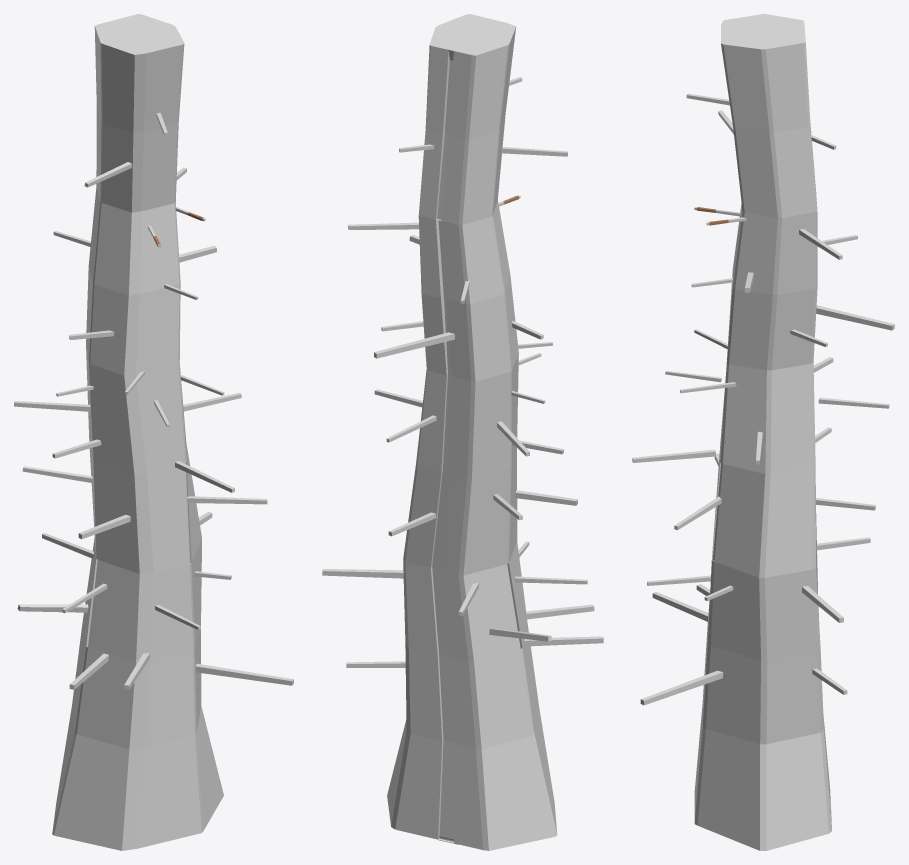
File: resource__surrounding__tree_trunk-slim_1_spiky.fbx
3 renders of one model, left to right at view 1: azimuth 30°, elevation 25°; view 2: azimuth 150°, elevation 25°; view 3: azimuth 270°, elevation 25°, orthographic.
Parts seen in each view (by area): view 1: Map_Surrounding_TreeTrunk_slim_1_spiky; view 2: Map_Surrounding_TreeTrunk_slim_1_spiky; view 3: Map_Surrounding_TreeTrunk_slim_1_spiky.
Boxes of the visible parts, box(x1,y1,x2,y2) form: Map_Surrounding_TreeTrunk_slim_1_spiky: box(14, 14, 293, 850); Map_Surrounding_TreeTrunk_slim_1_spiky: box(322, 14, 603, 850); Map_Surrounding_TreeTrunk_slim_1_spiky: box(632, 14, 894, 850).
Size of the model in its own units: 162 by 571 by 174.
